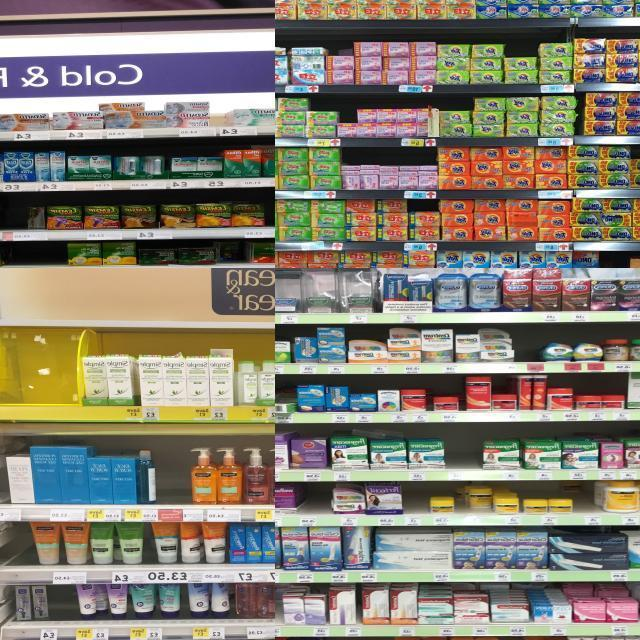empty: (157, 447, 186, 521), (448, 426, 482, 480), (47, 585, 75, 640), (12, 242, 66, 268), (301, 482, 329, 526), (515, 327, 540, 372), (402, 484, 428, 526), (2, 196, 26, 240), (574, 491, 592, 525), (275, 599, 281, 637)
